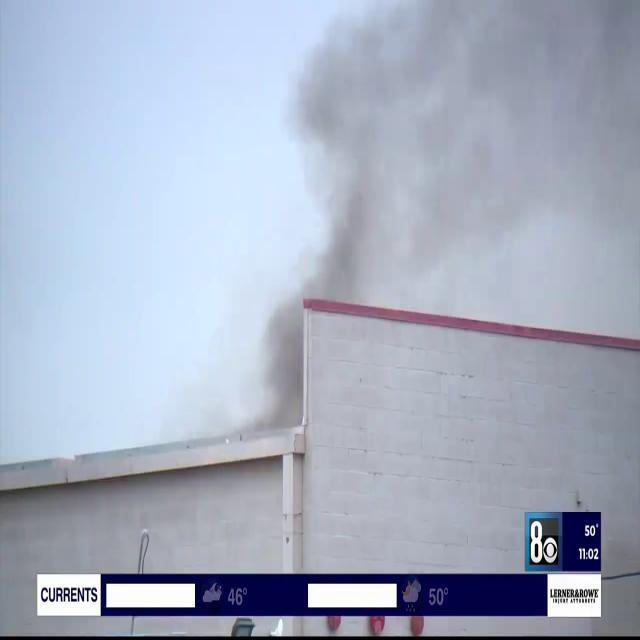Smoke: (235, 0, 639, 297)
